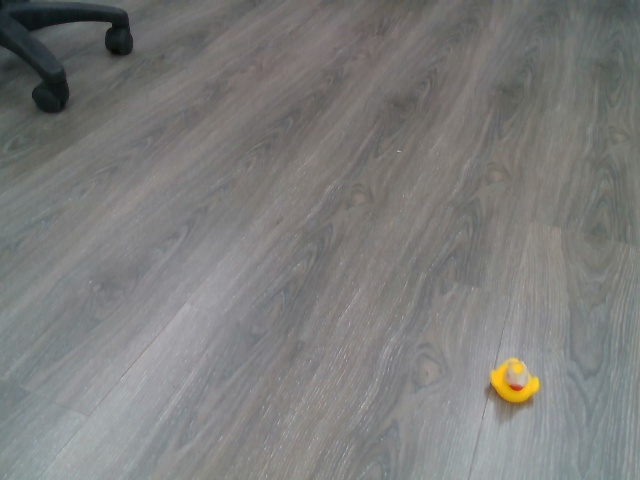duck: (489, 358, 541, 404)
